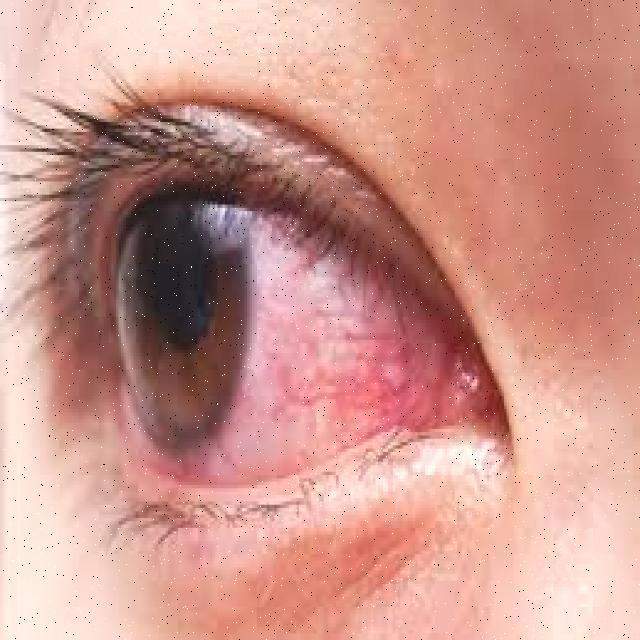Conjunctivitis: (80, 232, 523, 491)
